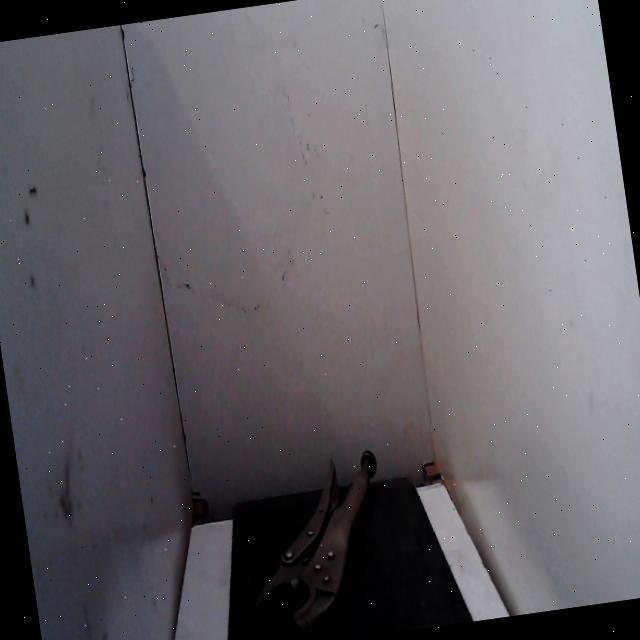metal: (217, 406, 411, 640)
